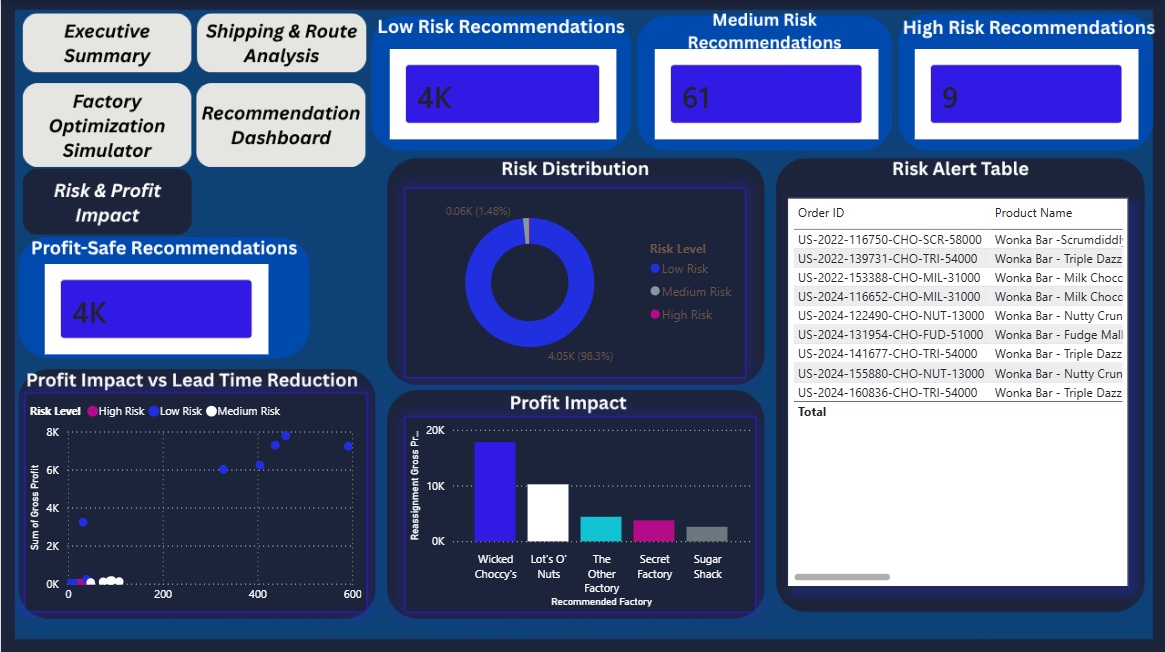

What the dashboard file says about the page in this screenshot:
{"tool":"powerbi","page":{"name":"Risk & Profit Impact ","canvas":[1280,720],"ordinal":5},"visuals":[{"type":"cardVisual","fields":{"Data":["reassignment_recommendations.Low Risk Recommendations"]},"box":[427.3,54.6,249,99.6],"z":0},{"type":"cardVisual","fields":{"Data":["reassignment_recommendations.Medium Risk Recommendations"]},"box":[718.1,54.6,245.8,99.6],"z":1000},{"type":"cardVisual","fields":{"Data":["reassignment_recommendations.High Risk Recommendations"]},"box":[1002.4,54.6,245.8,99.6],"z":2000},{"type":"cardVisual","fields":{"Data":["reassignment_recommendations.Profit-Safe Recommendations"]},"box":[48.2,290.8,245.8,99.6],"z":3000},{"type":"donutChart","fields":{"Category":["reassignment_recommendations.Risk Level"],"Y":["CountNonNull(reassignment_recommendations.Order ID)"]},"box":[443.4,207.2,374.3,208.8],"z":4000},{"type":"tableEx","fields":{"Values":["reassignment_recommendations.Order ID","reassignment_recommendations.Product Name","reassignment_recommendations.Current Factory","reassignment_recommendations.Recommended Factory","Sum(reassignment_recommendations.Lead_Time Reduction (%))","Sum(reassignment_recommendations.Gross Profit)","Sum(reassignment_recommendations.Profit Margin)","reassignment_recommendations.Risk Level"]},"box":[862.7,218.5,374.3,427.3],"z":5000},{"type":"scatterChart","fields":{"Category":["Nassau_Candy_Cleaned (2).Product Name"],"X":["Sum(reassignment_recommendations.Lead_Time Reduction (%))"],"Y":["Sum(reassignment_recommendations.Gross Profit)"],"Series":["reassignment_recommendations.Risk Level"]},"box":[25.7,432.1,375.9,241],"z":6000},{"type":"clusteredColumnChart","fields":{"Category":["reassignment_recommendations.Recommended Factory"],"Y":["reassignment_recommendations.Reassignment Gross Profit"]},"box":[443.4,457.8,385.5,215.3],"z":7000},{"type":"actionButton","box":[26.1,15.1,178.4,64.5],"z":7001},{"type":"actionButton","box":[26.1,90.6,178.4,90.6],"z":7002},{"type":"actionButton","box":[223.7,15.1,178.4,64.5],"z":7003},{"type":"actionButton","box":[214.1,104.3,178.4,76.8],"z":7004}]}

Visuals, with their boxes in screenshot pixels (x1, y1, x2, y2), scaled from the page's 1280x720 canvas onto the 1165x652 screenshot:
cardVisual - reassignment_recommendations.Low Risk Recommendations: left=389, top=49, right=616, bottom=140
cardVisual - reassignment_recommendations.Medium Risk Recommendations: left=654, top=49, right=877, bottom=140
cardVisual - reassignment_recommendations.High Risk Recommendations: left=912, top=49, right=1136, bottom=140
cardVisual - reassignment_recommendations.Profit-Safe Recommendations: left=44, top=263, right=268, bottom=354
donutChart - reassignment_recommendations.Risk Level x CountNonNull(reassignment_recommendations.Order ID): left=404, top=188, right=744, bottom=377
tableEx - reassignment_recommendations.Order ID x reassignment_recommendations.Product Name: left=785, top=198, right=1126, bottom=585
scatterChart - Nassau_Candy_Cleaned (2).Product Name x Sum(reassignment_recommendations.Lead_Time Reduction (%)): left=23, top=391, right=366, bottom=610
clusteredColumnChart - reassignment_recommendations.Recommended Factory x reassignment_recommendations.Reassignment Gross Profit: left=404, top=415, right=754, bottom=610
actionButton: left=24, top=14, right=186, bottom=72
actionButton: left=24, top=82, right=186, bottom=164
actionButton: left=204, top=14, right=366, bottom=72
actionButton: left=195, top=94, right=357, bottom=164
